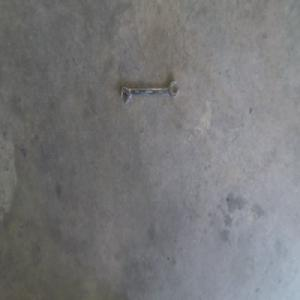Wrench: (120, 80, 179, 105)
